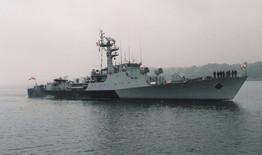warship: (29, 32, 248, 101)
